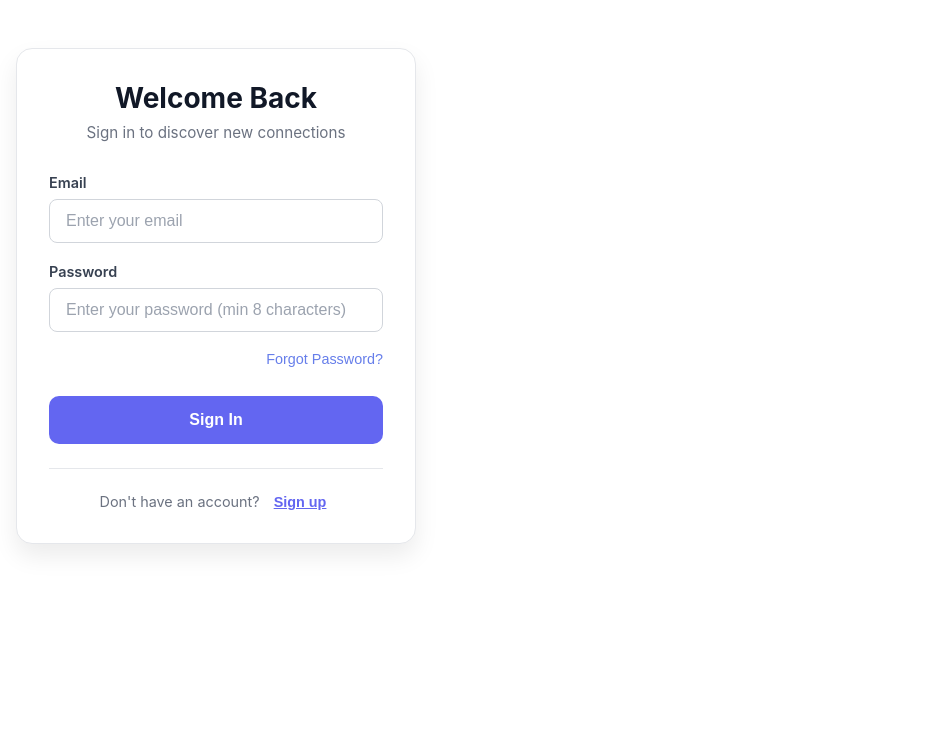
Scenario: Resend Verification Feature › Unverified User Login › should show resend verification option when unverified user tries to login
Type "test@example.com" into the field labelled "Email" at (216, 221), box 49,199 -> 383,243
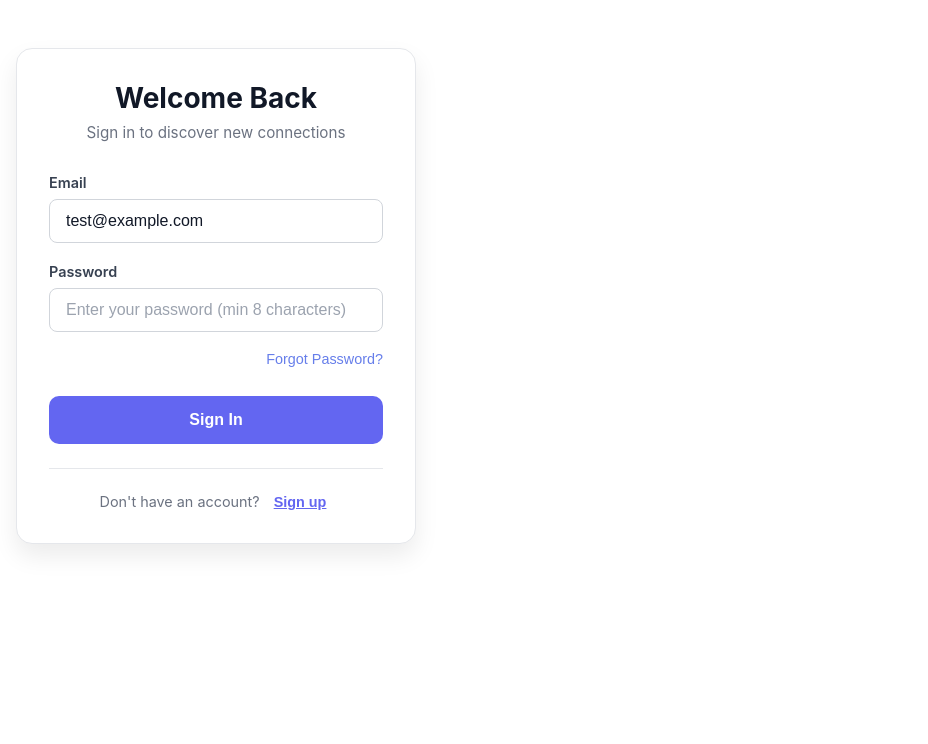
Type "password123" into the password field labelled "Password" at (216, 310), box 49,288 -> 383,332
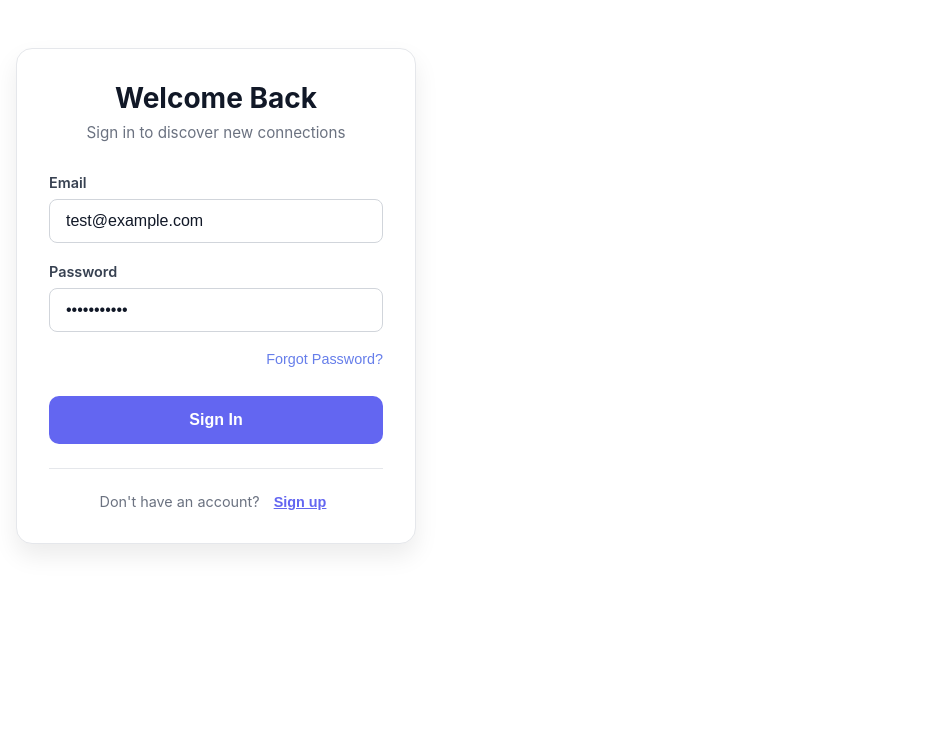
Click the button "Sign In" at (216, 420), box 49,396 -> 383,444
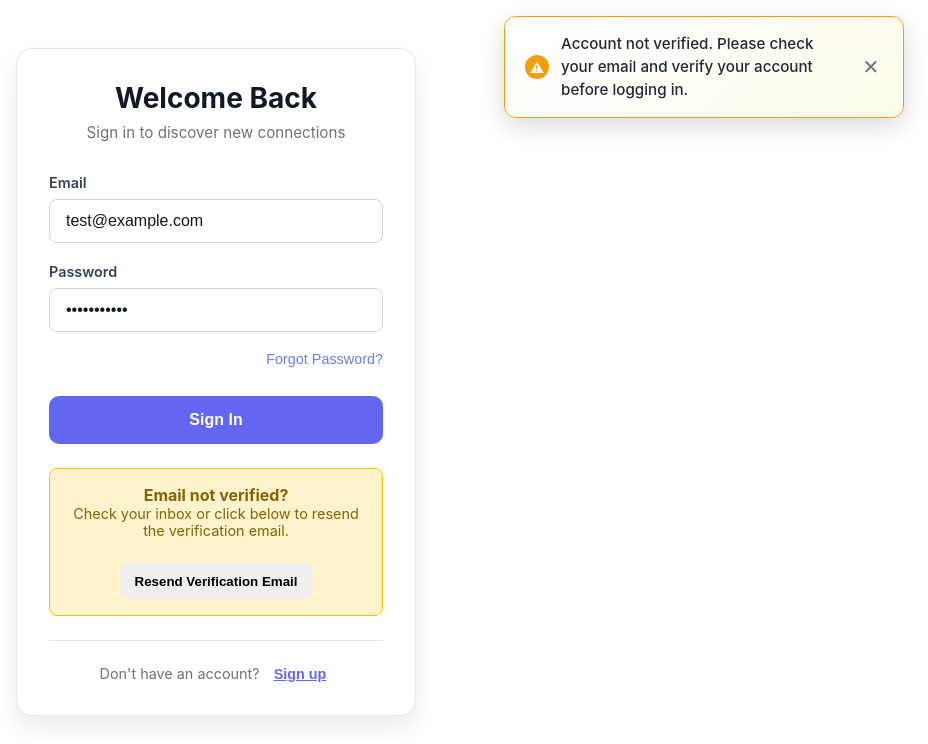
Expected: the text "Email not verified?" is shown, 144,485 -> 288,505
Expected: the button "Resend Verification Email" is shown, 119,563 -> 313,599
